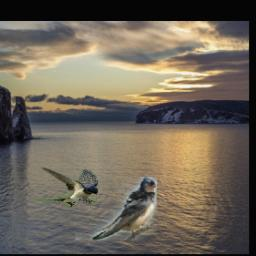Swallow: (76, 177, 158, 241), (35, 167, 98, 208)
